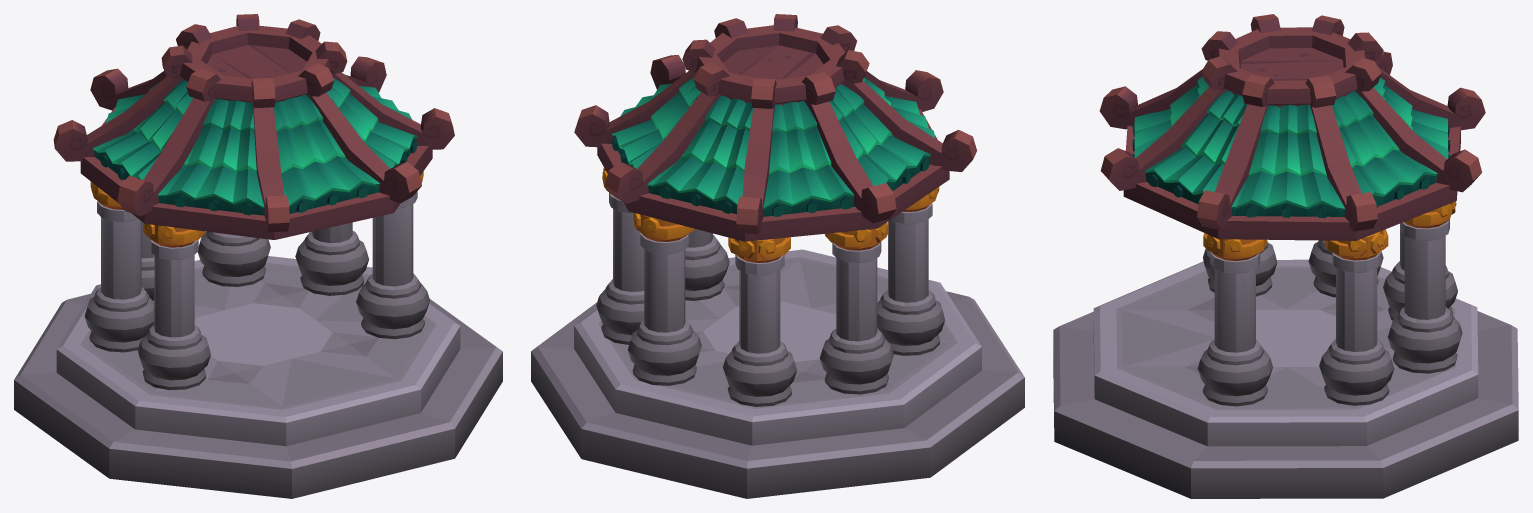
File: altar.glb
3 views of the same model, side by side, from view 1: azimuth 30°, elevation 25°; view 2: azimuth 150°, elevation 25°; view 3: azimuth 270°, elevation 25° (orthographic).
Visible parts, largest first — view 1: altar; view 2: altar; view 3: altar.
Part boxes in pixels (x1,y1,x2,y2): altar: (14, 14, 502, 498); altar: (531, 14, 1024, 498); altar: (1053, 14, 1518, 498).
Bounding box in the file's own units: 6.02 × 5.02 × 6.02.
1 material, 1 textured.
